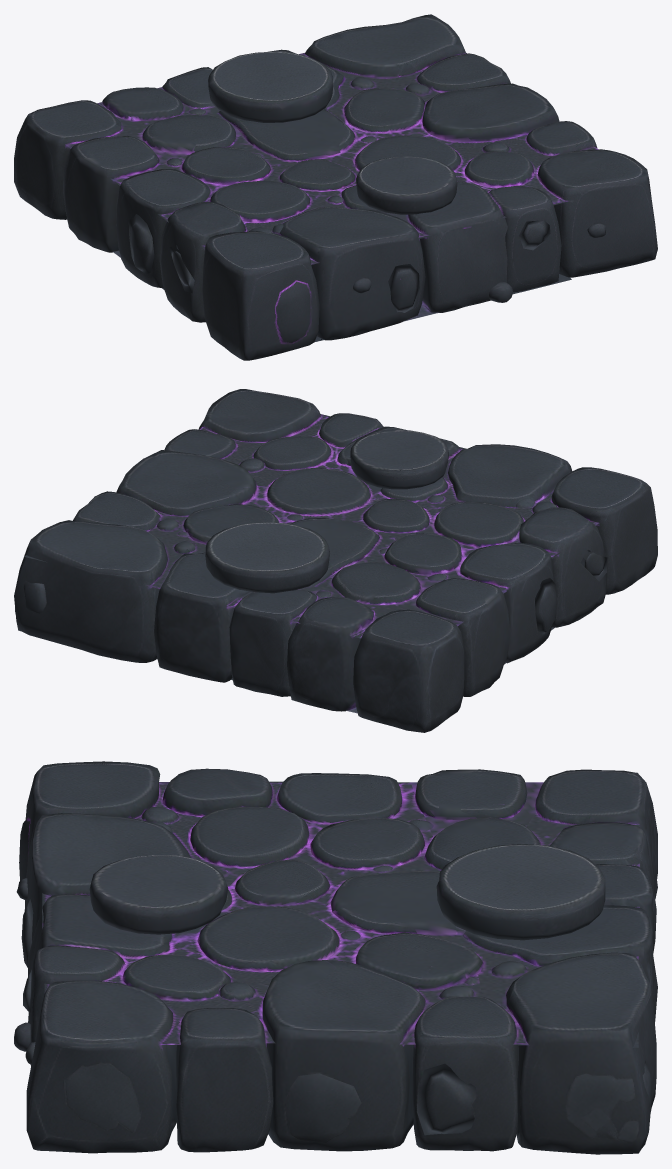
The model's file is floor_violet_rift.glb.
The picture shows the model from 3 angles, top to bottom: view 1: azimuth 30°, elevation 25°; view 2: azimuth 150°, elevation 25°; view 3: azimuth 270°, elevation 25°; orthographic projection. The views are drawn at different scales.
Parts seen in each view (by area): view 1: mesh_node; view 2: mesh_node; view 3: mesh_node.
Boxes of the visible parts, <box> form: mesh_node: <box>14,14,657,360</box>; mesh_node: <box>14,389,657,732</box>; mesh_node: <box>14,761,657,1154</box>.
Bounding box in the file's own units: 1 × 0.2358 × 0.9805.
Materials: 1 (1 with a texture image).
